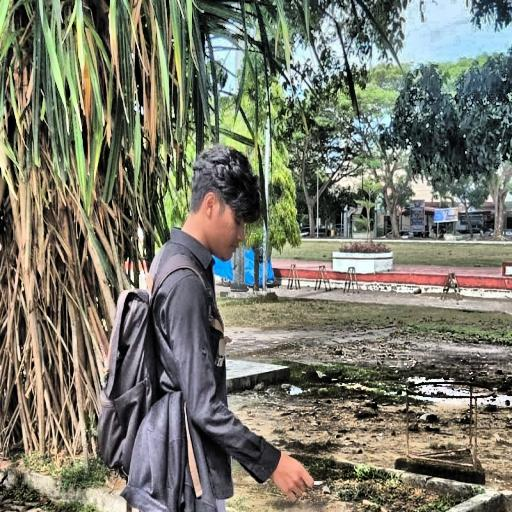Asbak: (312, 480, 323, 486)
Merokok: (271, 454, 321, 497)
